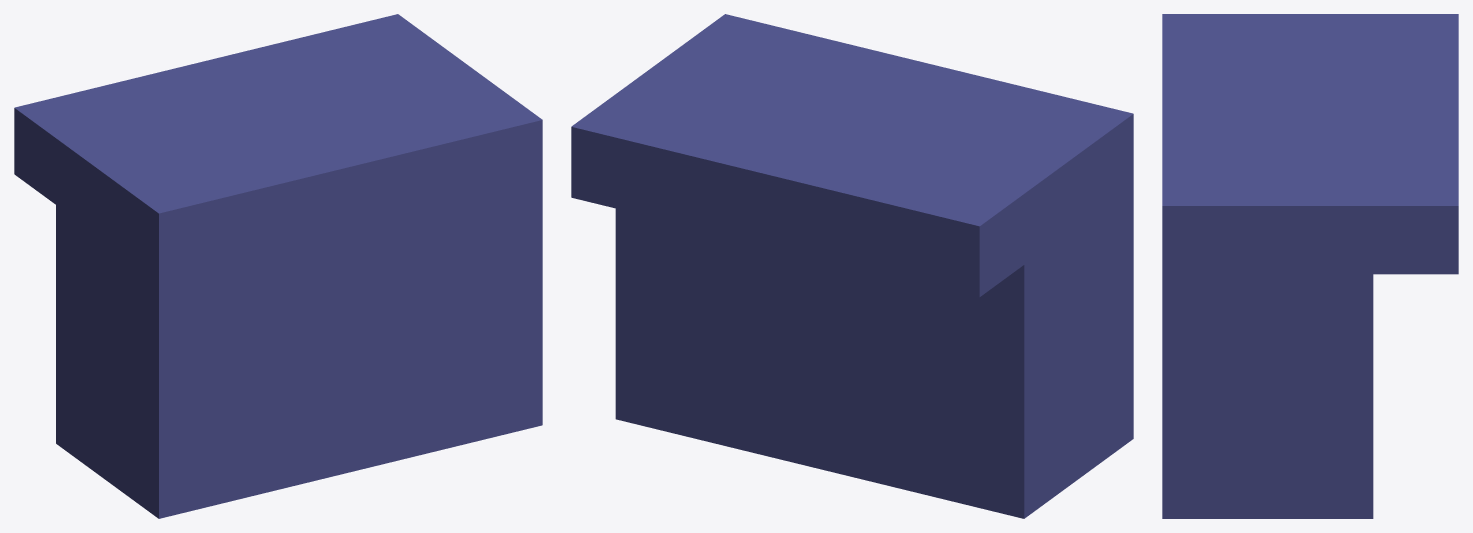
Rendered from HDCounter1.fbx.
3 views of the same model, side by side, from view 1: azimuth 30°, elevation 25°; view 2: azimuth 150°, elevation 25°; view 3: azimuth 270°, elevation 25° (orthographic). The views are drawn at different scales.
Parts seen in each view (by area): view 1: Counter.001; view 2: Counter.001; view 3: Counter.001.
Part boxes in pixels (<box>): Counter.001: <box>14,14,542,518</box>; Counter.001: <box>571,14,1133,518</box>; Counter.001: <box>1162,14,1458,518</box>.
Size of the model in its own units: 110 by 83.86 by 72.01.
